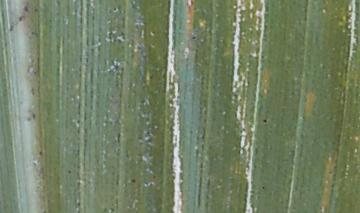tarspot: (8, 23, 15, 33), (110, 6, 119, 13), (17, 14, 24, 23), (189, 35, 199, 41), (23, 4, 29, 14), (31, 111, 37, 121), (260, 184, 266, 191), (130, 177, 136, 184), (37, 150, 44, 156), (149, 30, 156, 36), (25, 117, 31, 124), (241, 126, 247, 133), (261, 118, 267, 124), (66, 169, 73, 174), (33, 8, 38, 12)
